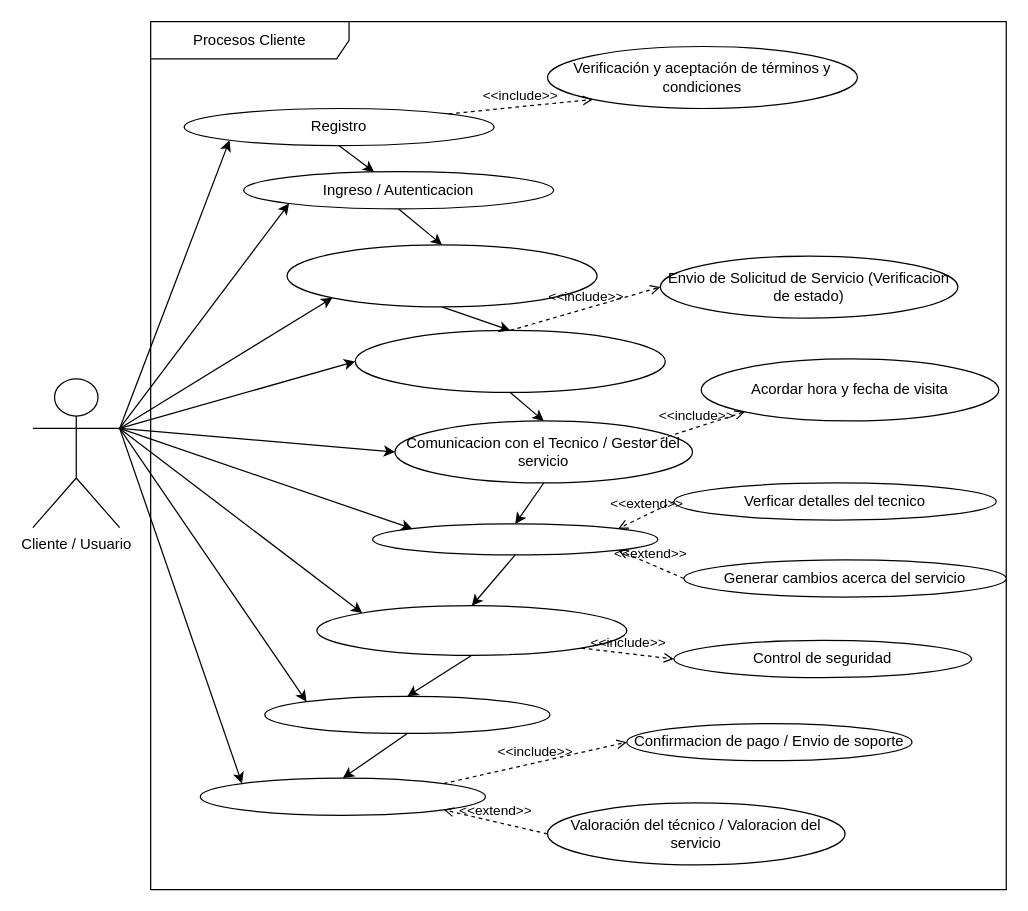
Image size: 1028x911. Some labels were removed from this diagram. The shapes that lost their labels are listed below. From the top down, each one's centre as x and y in pixels, then its label:
point (441, 275): Consulta de servicios disponibles y selección de tipo de servicio
point (509, 360): Diligenciamiento de Formato de orden de servicio
point (514, 539): Seguimiento del servicio
point (471, 629): Control de procesos del servicio
point (407, 714): Generar pago
point (342, 796): Verificar Factura / Verificar Garantia
